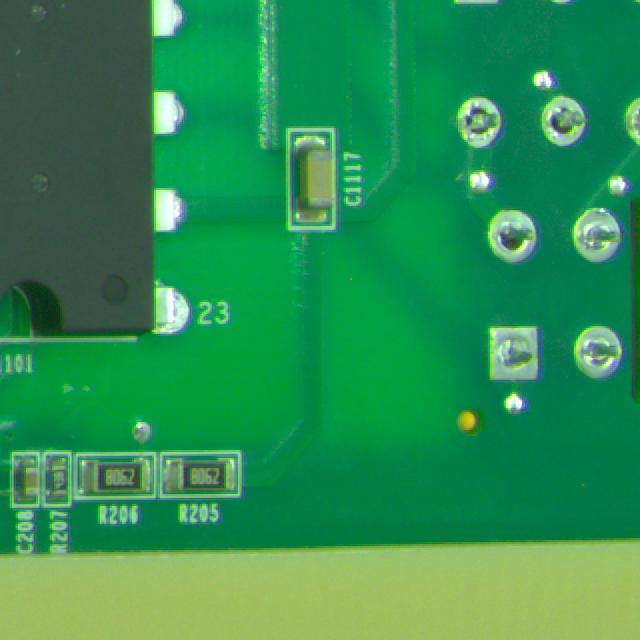Insufficient solder: (484, 204, 546, 269), (450, 92, 508, 150), (536, 93, 588, 147)
